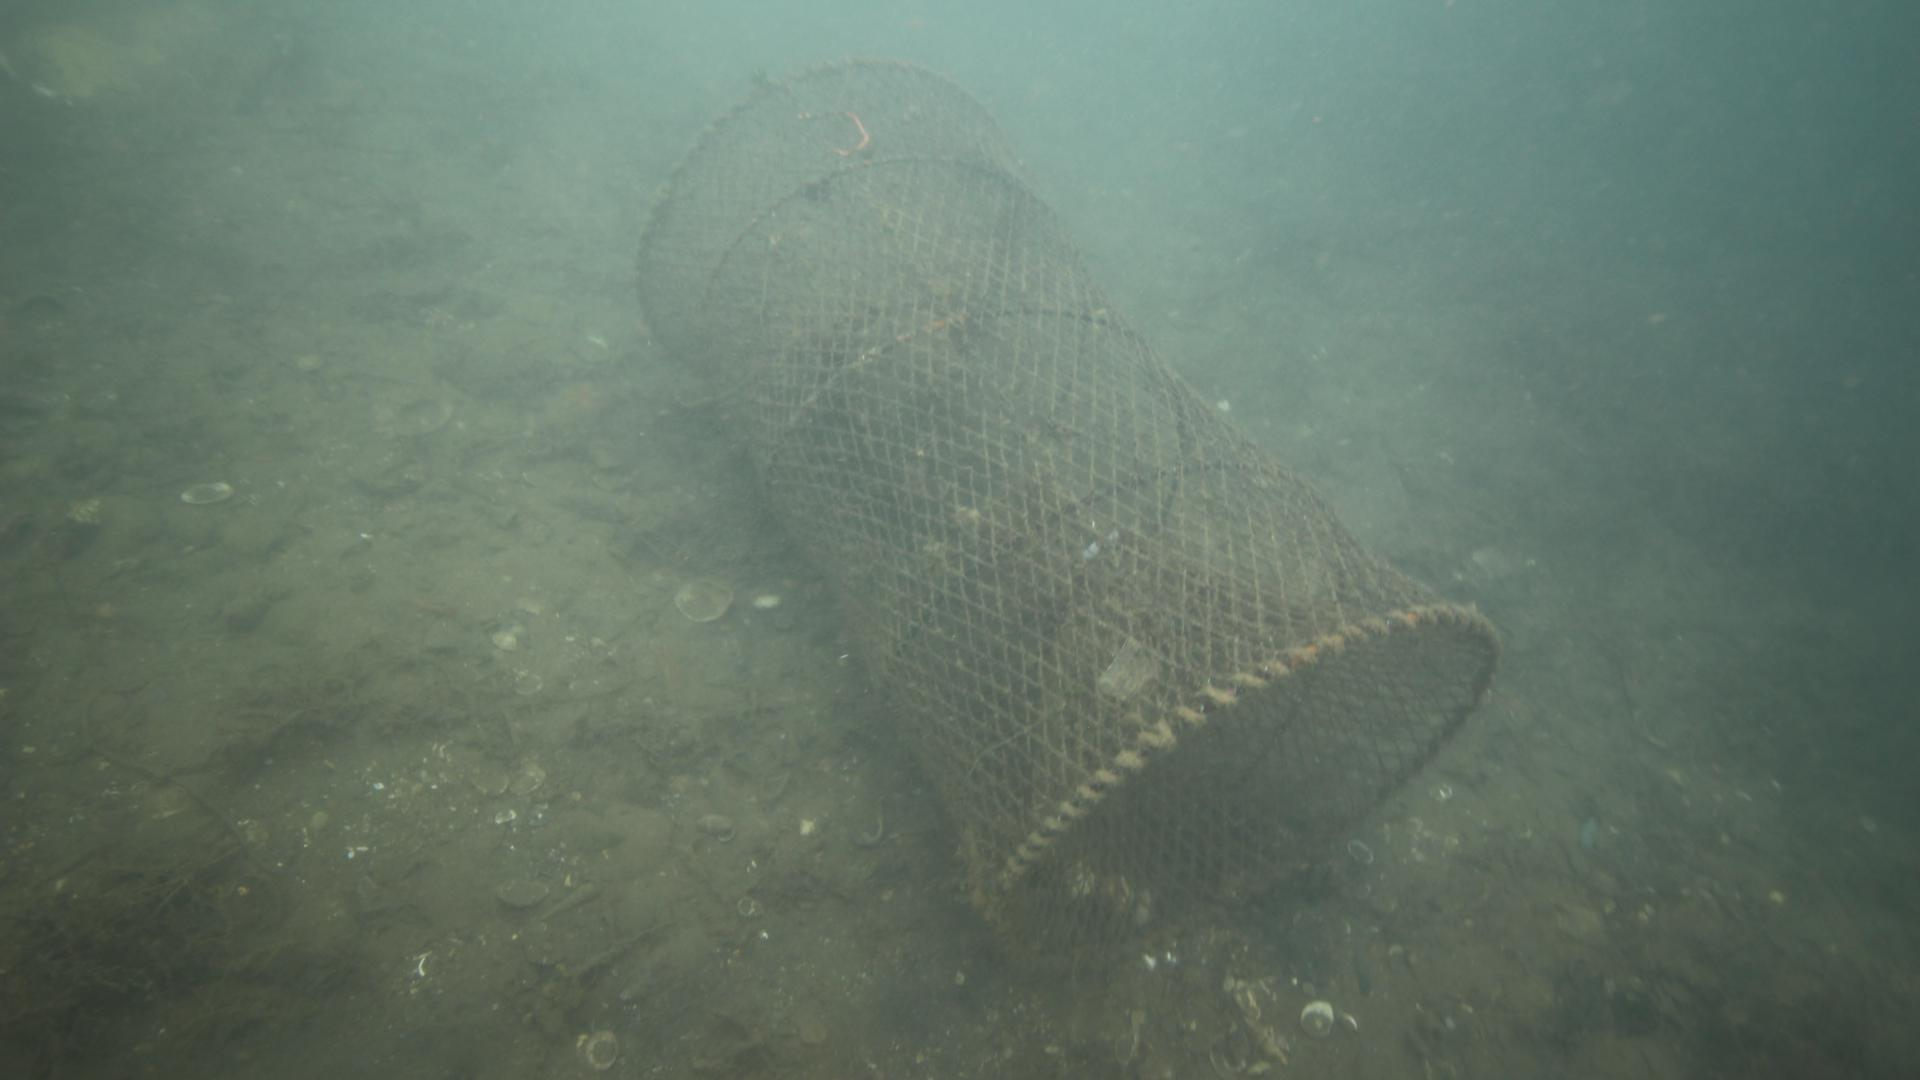spring fish trap: (630, 53, 1506, 982)
